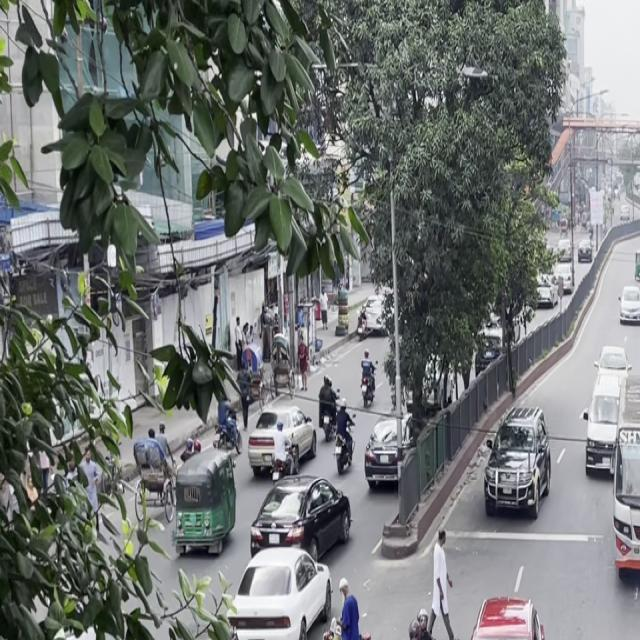bicycle: (310, 583, 394, 640)
bus: (611, 372, 640, 592)
car: (224, 533, 338, 640), (245, 469, 355, 564), (480, 400, 556, 525), (444, 579, 564, 640), (242, 396, 317, 490), (579, 366, 626, 481), (616, 282, 640, 333)
motorbike: (391, 626, 437, 640)
rickshaw: (170, 447, 239, 565)
